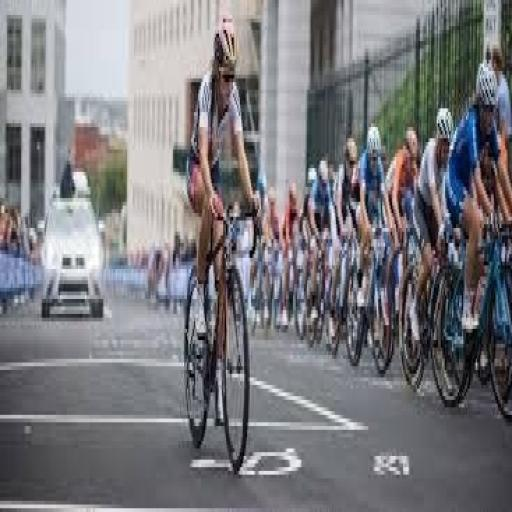cycling: (174, 24, 258, 483), (451, 48, 512, 400), (420, 102, 455, 336), (354, 133, 388, 275), (390, 119, 418, 249), (310, 142, 330, 305), (335, 128, 360, 256)
